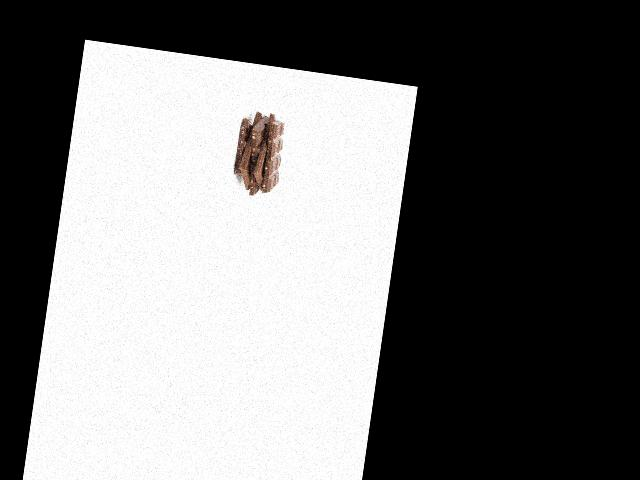chocolate: (227, 110, 268, 191)
